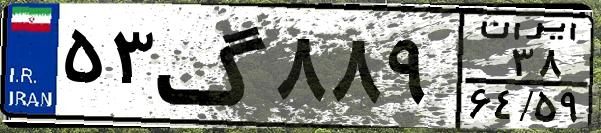3: (110, 28, 156, 98), (508, 27, 537, 80)
4: (495, 70, 520, 125)
5: (57, 26, 110, 100), (535, 70, 560, 125)
6: (470, 70, 495, 125)
8: (270, 28, 330, 110), (330, 28, 385, 110), (537, 27, 568, 80)
9: (385, 28, 445, 110), (560, 70, 590, 125)
گ: (156, 12, 270, 120)
